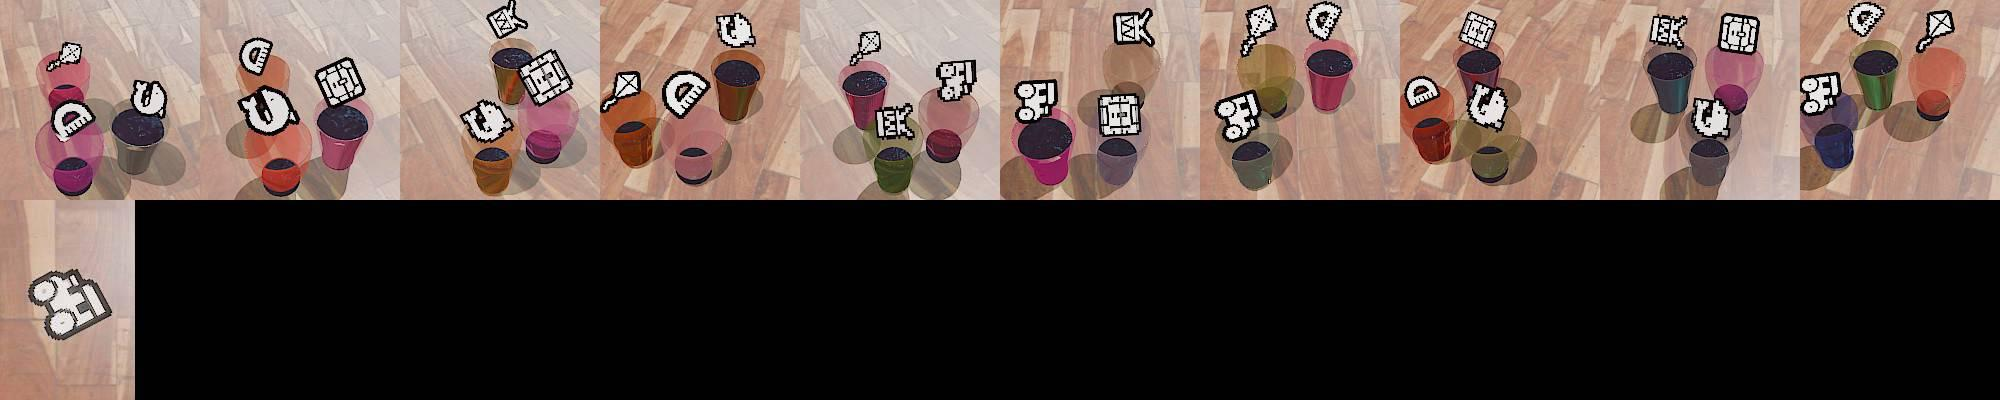icon: (26, 268, 115, 343), (236, 85, 301, 137), (518, 47, 575, 106), (314, 57, 366, 110), (660, 69, 712, 120), (1214, 89, 1263, 143), (460, 98, 514, 144), (1464, 81, 1509, 131), (50, 98, 98, 143), (1097, 92, 1144, 137), (1014, 76, 1058, 122), (1799, 70, 1842, 117), (596, 71, 643, 113), (935, 58, 977, 102), (1241, 4, 1277, 55), (1717, 13, 1760, 55), (1689, 96, 1731, 139), (1457, 10, 1498, 53), (1112, 7, 1154, 47), (1915, 10, 1954, 53), (486, 1, 528, 40), (1305, 1, 1344, 43), (715, 11, 757, 50), (130, 77, 168, 118), (1649, 12, 1689, 50), (875, 102, 916, 139), (238, 37, 274, 78), (1846, 1, 1885, 38), (848, 31, 881, 69), (1404, 74, 1440, 108), (48, 41, 83, 69)
